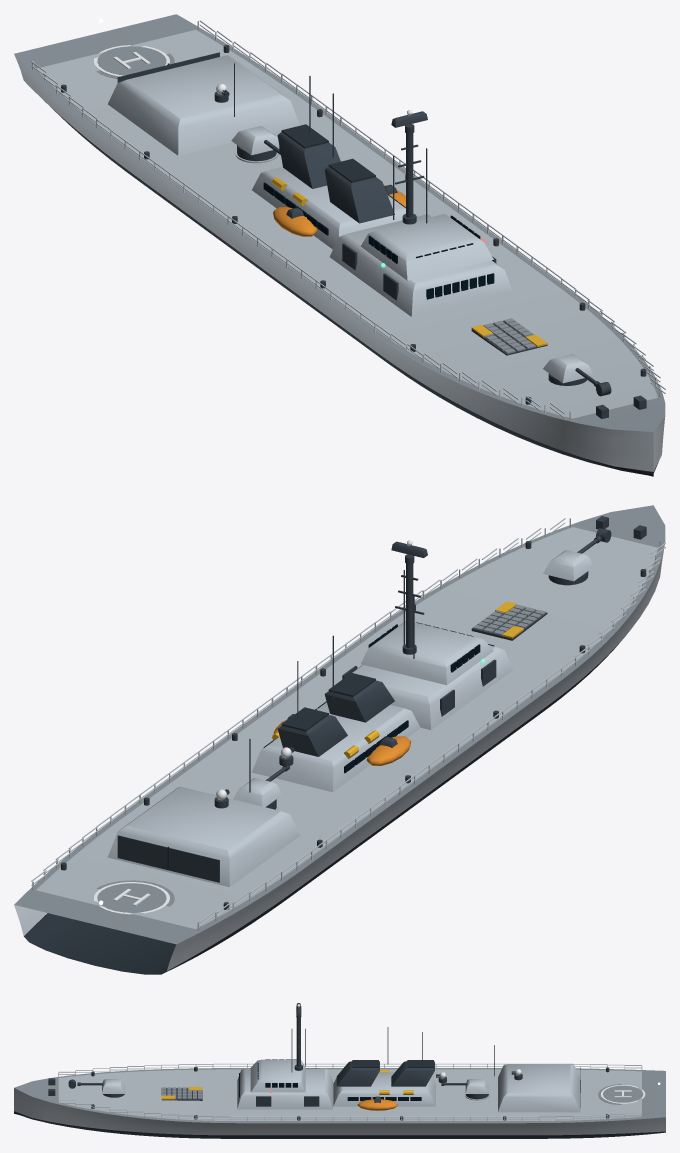
File: ship_destroyer.glb
The picture shows the model from 3 angles, top to bottom: view 1: azimuth 30°, elevation 25°; view 2: azimuth 150°, elevation 25°; view 3: azimuth 270°, elevation 25°; orthographic projection. The views are drawn at different scales.
Visible parts, largest first — view 1: deck_plate, hull, hangar, deck, bridge1, bridge2, rails, midhouse, funnel_1, hull_under, funnel_2, helideck_inner (+6 smaller); view 2: deck_plate, deck, hangar, hull, hull_under, midhouse, rails, bridge2, bridge1, hangar_door, funnel_1, funnel_2 (+5 smaller); view 3: deck_plate, hull, deck, hangar, rails, hull_under, bridge1, midhouse, bridge2, funnel_1, funnel_2, helideck_inner (+8 smaller).
Boxes of the visible parts, <box> form: deck_plate: <box>37,29,657,418</box>; hull: <box>14,54,665,471</box>; hangar: <box>108,55,299,155</box>; deck: <box>14,14,665,431</box>; bridge1: <box>330,214,512,316</box>; bridge2: <box>360,214,493,280</box>; rails: <box>31,20,665,419</box>; midhouse: <box>252,161,405,249</box>; funnel_1: <box>324,166,394,223</box>; hull_under: <box>44,101,658,476</box>; funnel_2: <box>277,132,340,188</box>; helideck_inner: <box>97,46,166,75</box>; deck_plate: <box>36,527,657,929</box>; deck: <box>14,505,665,944</box>; hangar: <box>107,786,300,887</box>; hull: <box>14,546,664,970</box>; hull_under: <box>24,636,625,974</box>; midhouse: <box>252,702,420,792</box>; rails: <box>31,518,665,930</box>; bridge2: <box>361,621,493,685</box>; bridge1: <box>352,645,512,729</box>; hangar_door: <box>117,835,219,882</box>; funnel_1: <box>324,680,394,722</box>; funnel_2: <box>277,715,347,756</box>; deck_plate: <box>58,1069,641,1120</box>; hull: <box>14,1088,665,1135</box>; deck: <box>14,1068,665,1123</box>; hangar: <box>498,1064,580,1112</box>; rails: <box>58,1063,642,1122</box>; hull_under: <box>14,1111,665,1138</box>; bridge1: <box>237,1068,332,1109</box>; midhouse: <box>333,1072,435,1106</box>; bridge2: <box>250,1059,305,1092</box>; funnel_1: <box>336,1061,379,1086</box>; funnel_2: <box>391,1061,434,1086</box>; helideck_inner: <box>603,1085,643,1102</box>.
Bounding box in the file's own units: 3.8 × 3.89 × 19.
